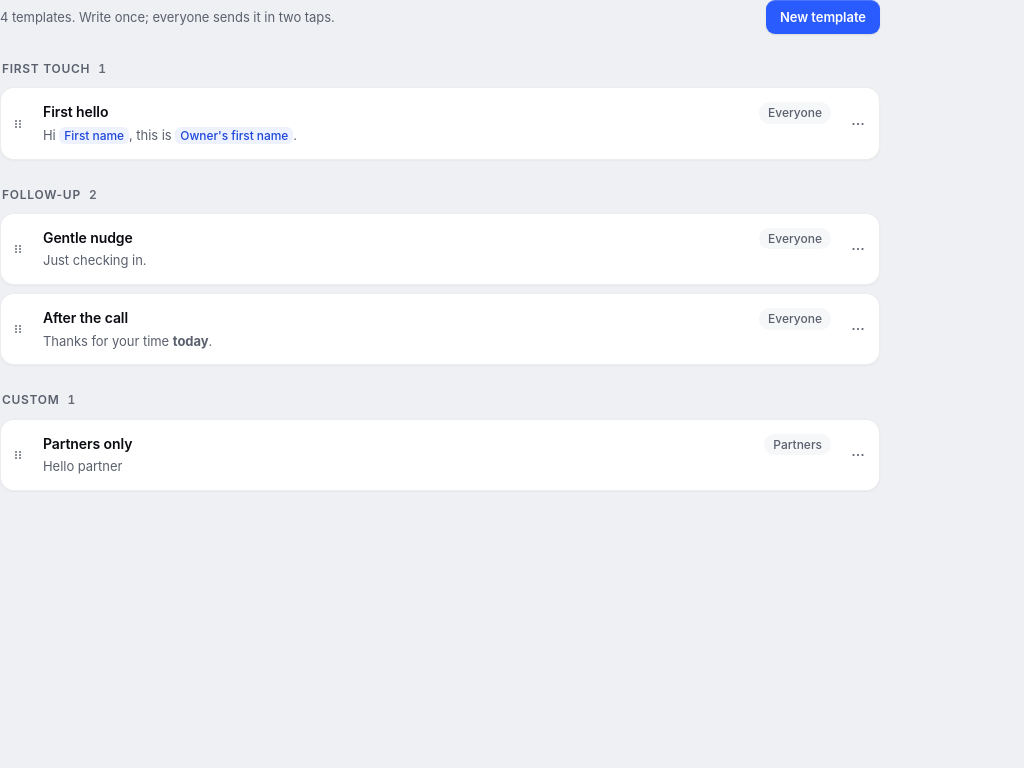
Test: the template library (4A Task 5) › a new template saves: LUME reads it back, the editor closes, and a Saved pops up; the card joins its group
Click the button "New template" at [823, 17], box 766,0 -> 880,34
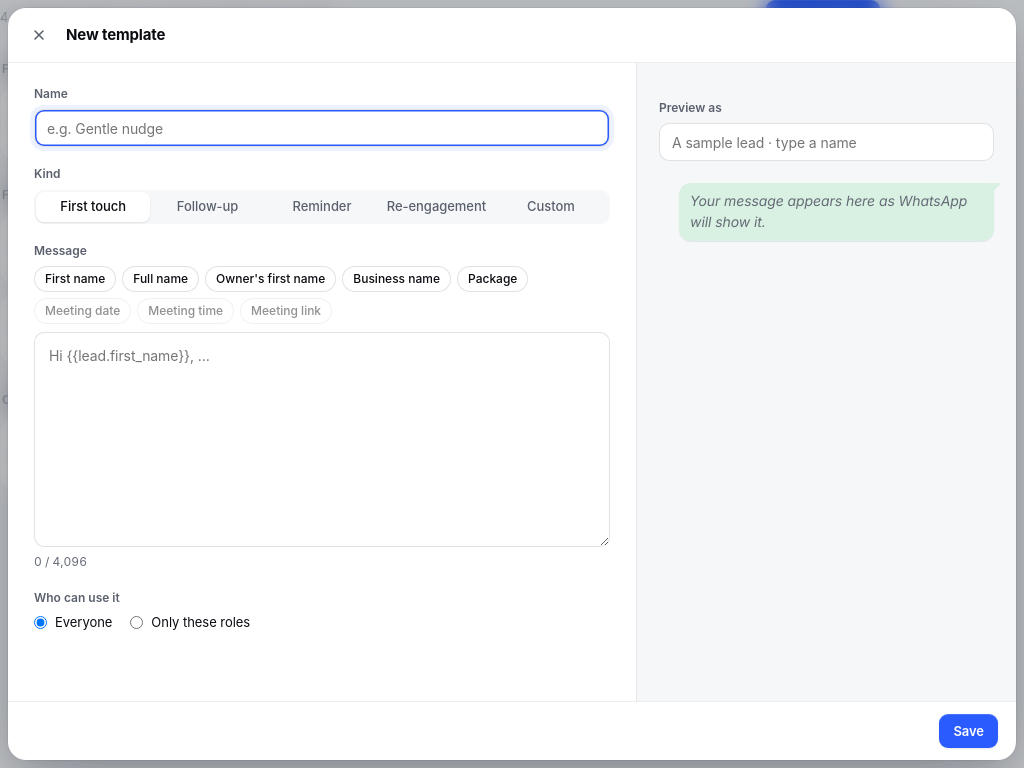
Type "Welcome back" into the field labelled "Name" at [322, 128], box 34,109 -> 610,147
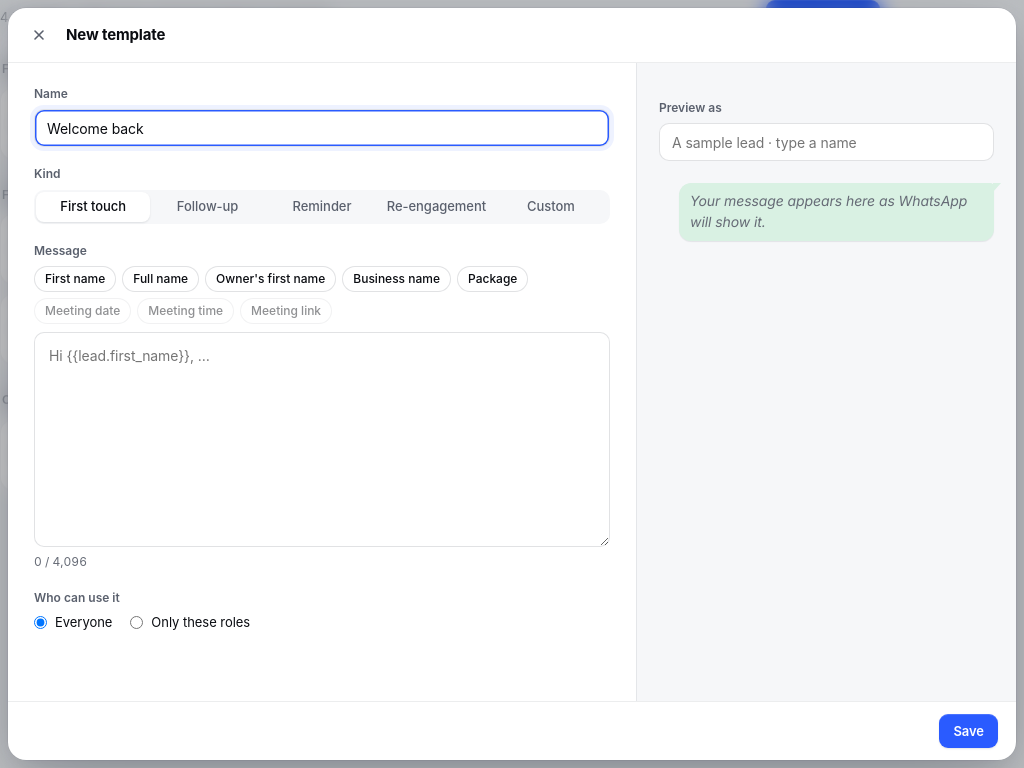
Type "Hello again" into the text box labelled "Message" at [322, 440], box 34,332 -> 610,547
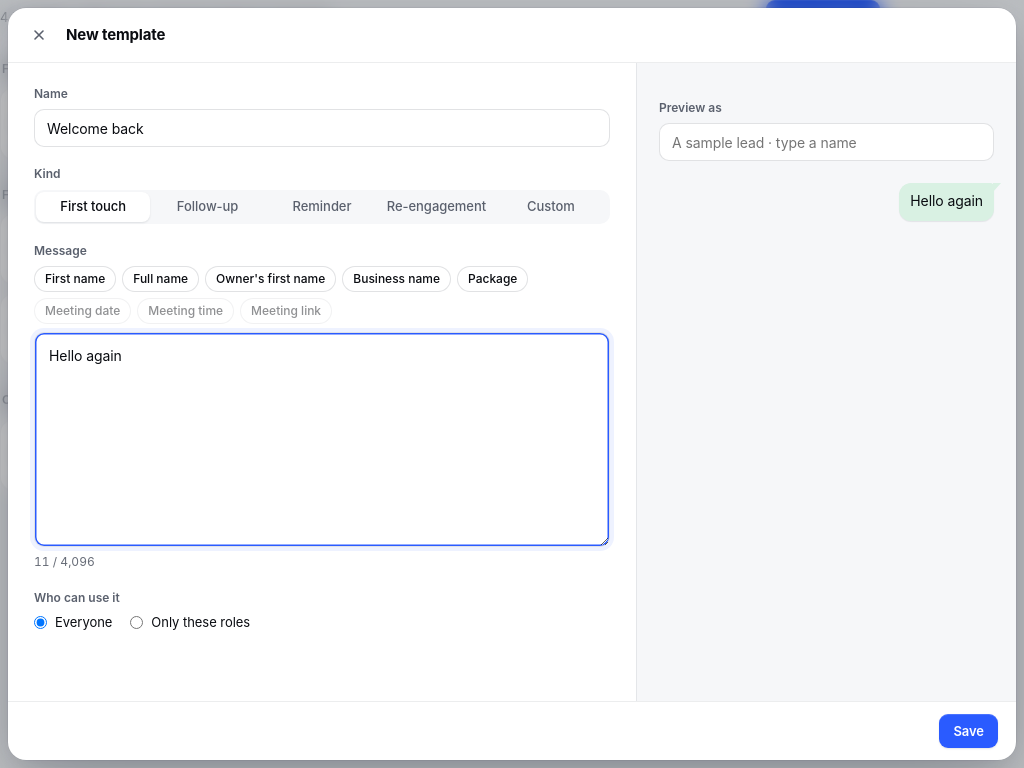
Click the button "Save" at [969, 731], box 939,714 -> 998,748
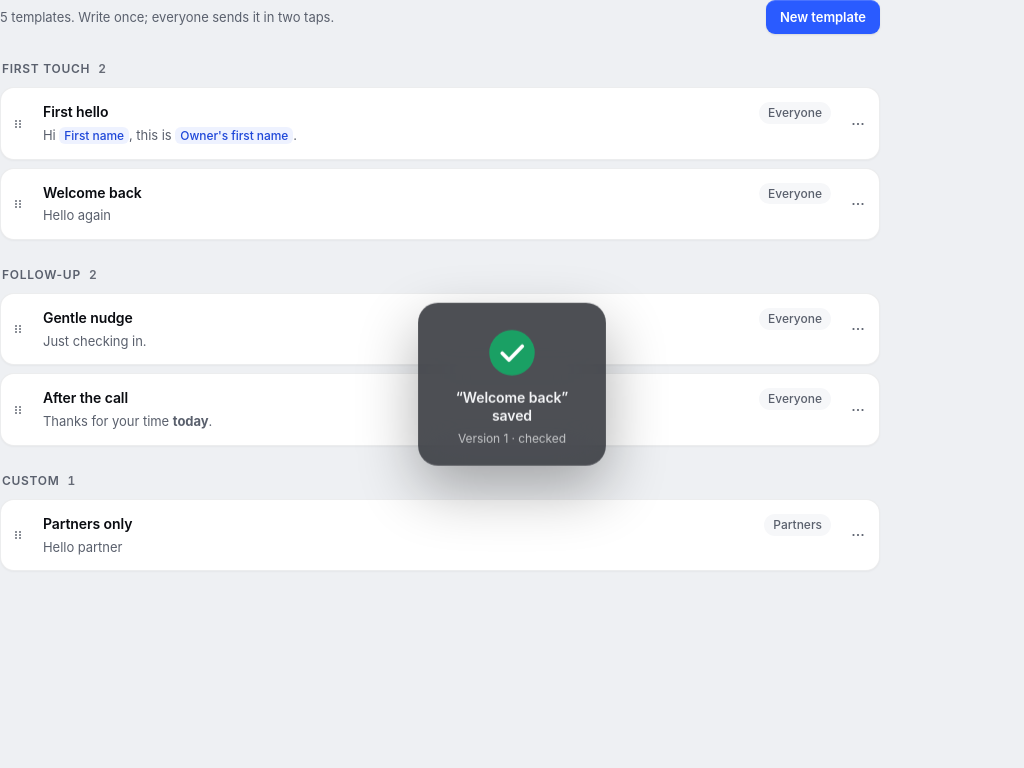
Expected: the dialog is gone
Expected: the list named "First touch" shows "Welcome back", 35,173 -> 839,235
